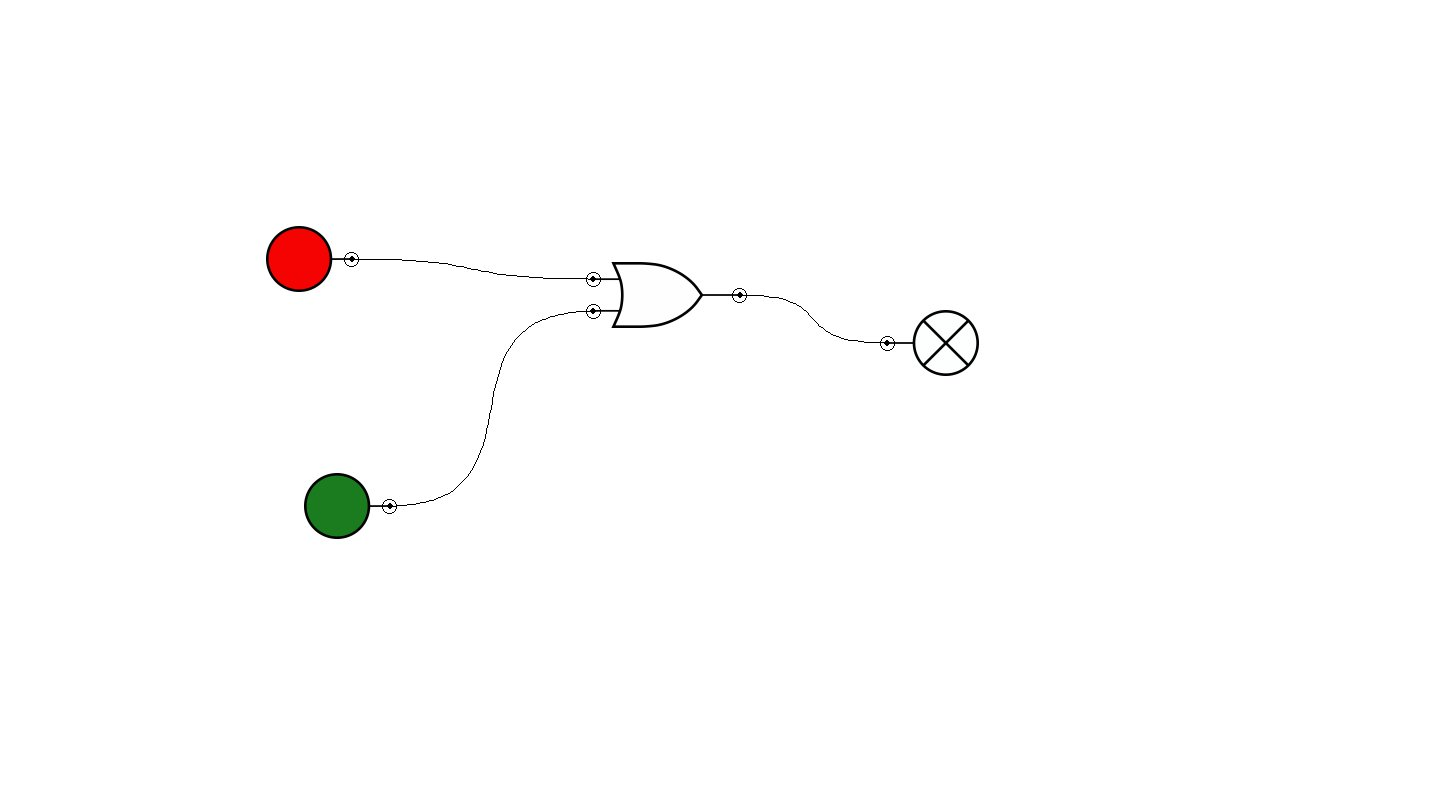bulb: (880, 310, 979, 376)
or: (586, 262, 747, 328)
switch_False: (266, 226, 359, 292)
switch_True: (304, 473, 397, 539)
